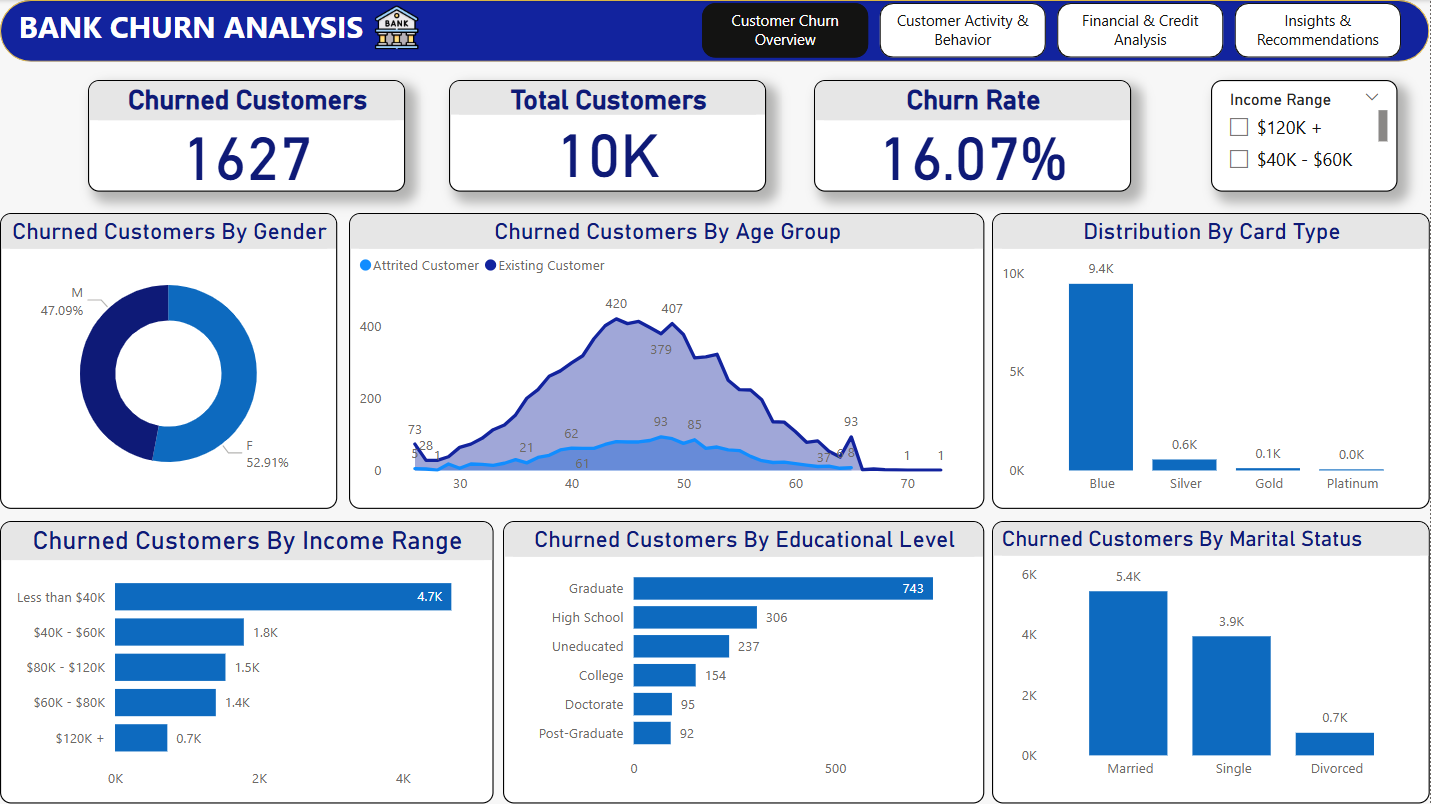

Layout of this report page (visuals, bound fields, positions):
{"tool":"powerbi","page":{"name":"Customer Churn Overview","canvas":[1280,720],"ordinal":0},"visuals":[{"type":"shape","box":[0,0,1280,55.4],"z":0,"group":"g1"},{"type":"card","title":"Churn Rate","fields":{"Values":["Sum(Overall_Churn_Rate_View.Overall_Churn_Rate)"]},"box":[728.5,72,284,100.2],"z":0},{"type":"textbox","box":[11.7,0,371.6,48.6],"z":1000,"group":"g1"},{"type":"card","title":"Total Customers","fields":{"Values":["Account_Activity.Total Customers"]},"box":[401.7,72,284,100.2],"z":1000},{"type":"pageNavigator","box":[628.3,2.9,627.4,49.6],"z":2000,"group":"g1"},{"type":"clusteredBarChart","title":"Churned Customers By Income Range","fields":{"Y":["Sum(Churn_Per_Income_View (2).Chur_Customers)"],"Category":["Churn_Per_Income_View (2).Income_Range"]},"box":[0,466.9,441.6,252.9],"z":2000},{"type":"clusteredColumnChart","title":"Distribution By Card Type","fields":{"Category":["Distribution_by_Card_Type_View.Card_Type"],"Y":["Sum(Distribution_by_Card_Type_View.Distribution_by_Card_Type)"]},"box":[888,190.6,392,264.6],"z":3000},{"type":"clusteredBarChart","title":"Churned Customers By Educational Level","fields":{"Category":["Education_Churned_Customers_View.Education_Level"],"Y":["Sum(Education_Churned_Customers_View.Churned_Customers)"]},"box":[450.3,466.9,430.9,252.9],"z":4000},{"type":"clusteredColumnChart","title":"Churned Customers By Marital Status","fields":{"Category":["Marital_Status_View.Marital_Status"],"Y":["Sum(Marital_Status_View.Churned_Customers)"]},"box":[888,466.9,392,252.9],"z":5000},{"type":"card","title":"Churned Customers","fields":{"Values":["Staging_Table.Attrited Customers"]},"box":[78.8,72,284,100.2],"z":6000},{"type":"donutChart","title":"Churned Customers By Gender","fields":{"Category":["Customer_Info.Gender"],"Y":["CountNonNull(Customer_Info.Churn_Status)"]},"box":[0,190.6,301.5,264.6],"z":7000},{"type":"areaChart","title":"Churned Customers By Age Group","fields":{"Category":["Customer_Info.Age"],"Series":["Customer_Info.Churn_Status"],"Y":["CountNonNull(Customer_Info.Customer_ID)"]},"box":[312.2,190.6,569,264.6],"z":8000},{"type":"slicer","fields":{"Values":["Customer_Info.Income_Range"]},"box":[1084.5,72,167.3,100.2],"z":9000},{"type":"group","id":"g1","title":"Group 1","box":[0,0,1280,55.4],"z":10000},{"type":"image","box":[327.8,0,55.4,48.6],"z":11000}]}

Visuals, with their boxes in screenshot pixels (x1, y1, x2, y2), scaled from the page's 1280x720 canvas onto the 1431x804 screenshot:
shape: x1=0, y1=0, x2=1430, y2=62
"Churn Rate" card: x1=814, y1=80, x2=1132, y2=192
textbox: x1=13, y1=0, x2=429, y2=54
"Total Customers" card: x1=449, y1=80, x2=767, y2=192
pageNavigator: x1=702, y1=3, x2=1404, y2=59
"Churned Customers By Income Range" clusteredBarChart: x1=0, y1=521, x2=494, y2=803
"Distribution By Card Type" clusteredColumnChart: x1=993, y1=213, x2=1430, y2=508
"Churned Customers By Educational Level" clusteredBarChart: x1=503, y1=521, x2=985, y2=803
"Churned Customers By Marital Status" clusteredColumnChart: x1=993, y1=521, x2=1430, y2=803
"Churned Customers" card: x1=88, y1=80, x2=406, y2=192
"Churned Customers By Gender" donutChart: x1=0, y1=213, x2=337, y2=508
"Churned Customers By Age Group" areaChart: x1=349, y1=213, x2=985, y2=508
slicer - Customer_Info.Income_Range: x1=1212, y1=80, x2=1399, y2=192
"Group 1" group: x1=0, y1=0, x2=1430, y2=62
image: x1=366, y1=0, x2=428, y2=54
